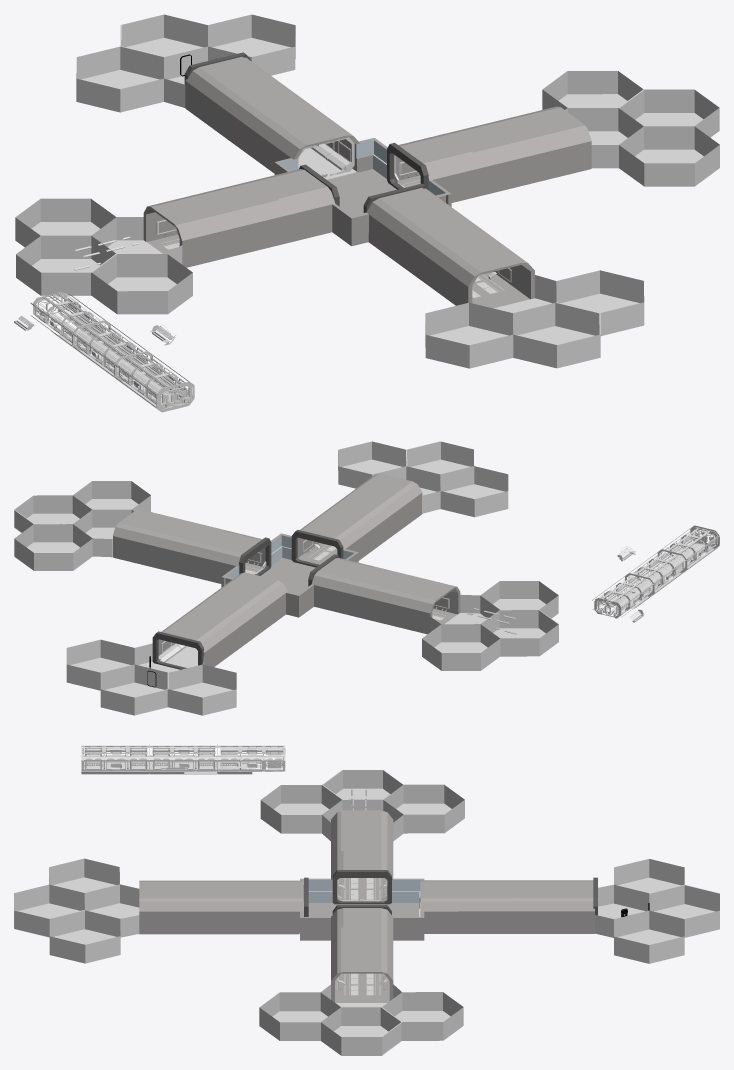
Rendered from Bunker.glb.
3 views of the same model, one above another, from view 1: azimuth 30°, elevation 25°; view 2: azimuth 150°, elevation 25°; view 3: azimuth 270°, elevation 25° (orthographic). The views are drawn at different scales.
Visible parts, largest first — view 1: Plan, Chambre.004, Chambre.003, Chambre.002, baze.001, Cube.003, Cube.001, Cube.002, Cube.005, Cube.017, Cube.004, Cube.013 (+1 smaller); view 2: Plan, Chambre.004, baze.001, Chambre.002, Chambre.003, Cube.003, Cube.001, Cube.002, Cube.005, Cube.015, Cube.017, Cube.012 (+3 smaller); view 3: Plan, Chambre.002, Chambre.003, baze.001, Chambre.004, Cube.003, Cube.001, Cube.002, Cube.004, Cube.005, Cube.014, Cube.007 (+2 smaller).
Part boxes in pixels (x1,y1,x2,y2): Plan: (143, 56, 591, 308); Chambre.004: (15, 198, 192, 314); Chambre.003: (425, 270, 644, 368); Chambre.002: (542, 71, 719, 186); baze.001: (76, 14, 295, 112); Cube.003: (30, 292, 194, 408); Cube.001: (14, 293, 192, 412); Cube.002: (72, 320, 194, 411); Cube.005: (34, 293, 187, 407); Cube.017: (298, 141, 356, 180); Cube.004: (33, 294, 188, 404); Cube.013: (387, 142, 428, 189); Plan: (113, 473, 460, 666); Chambre.004: (422, 581, 558, 670); baze.001: (66, 639, 236, 715); Chambre.002: (14, 481, 150, 570); Chambre.003: (338, 441, 508, 517); Cube.003: (592, 527, 719, 618); Cube.001: (595, 536, 718, 622); Cube.002: (625, 525, 719, 596); Cube.005: (597, 528, 716, 617); Cube.015: (152, 631, 203, 669); Cube.017: (158, 641, 197, 667); Cube.012: (291, 530, 343, 567); Plan: (138, 810, 594, 1002); Chambre.002: (259, 984, 463, 1055); Chambre.003: (14, 858, 139, 963); baze.001: (595, 859, 719, 963); Chambre.004: (260, 770, 464, 841); Cube.003: (81, 745, 285, 771); Cube.001: (81, 748, 283, 774); Cube.002: (81, 744, 217, 773); Cube.004: (84, 746, 283, 769); Cube.005: (82, 746, 285, 770); Cube.014: (332, 870, 391, 904); Cube.007: (84, 747, 283, 763).
Bounding box in the file's own units: 121 × 7.04 × 123.
